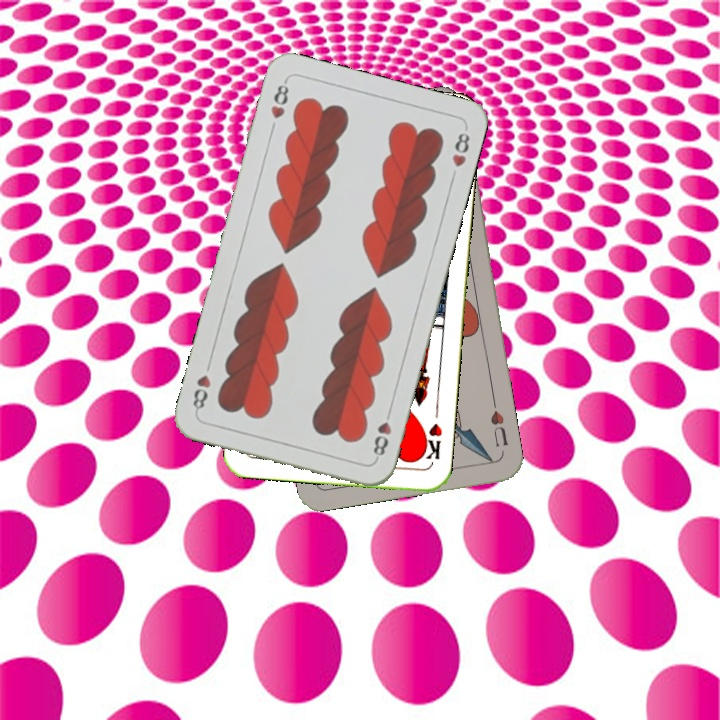H8: (369, 404, 394, 463), (266, 76, 292, 122)
HK: (417, 419, 445, 462)
HU: (486, 397, 511, 449)
